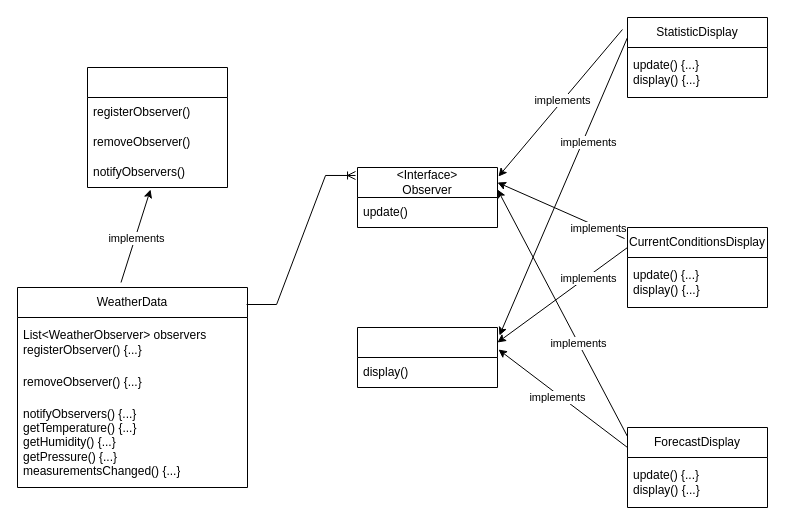
Image size: 785x525. Some labels were removed from this diagram. The box of each missing label's shape, as (x1, y1, x2, y2) in pixels:
<Interface> DisplayElement: (356, 326, 498, 388)
<Interface> Subject: (86, 66, 228, 188)
